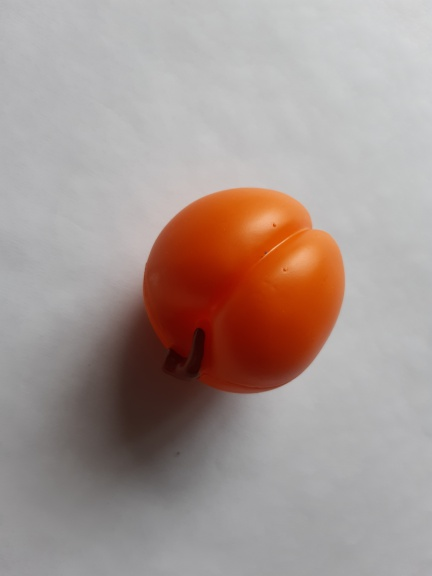apricot: (125, 172, 363, 410)
